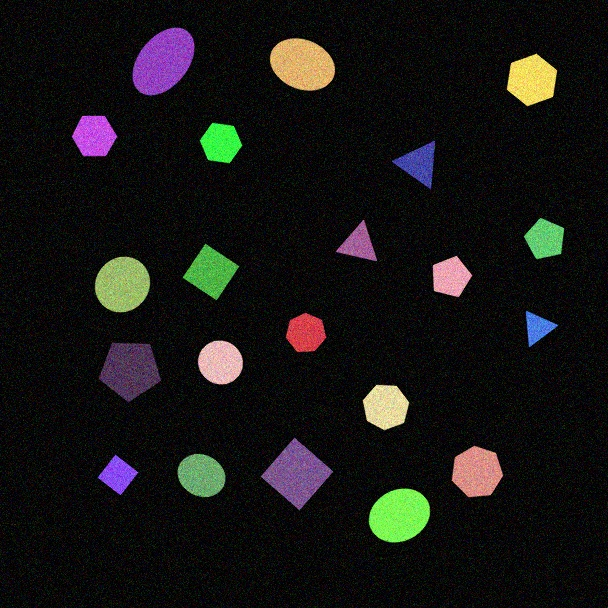Circulo: (94, 256, 151, 313), (177, 453, 226, 498), (197, 340, 244, 385)
Elipse: (132, 27, 195, 96), (269, 38, 336, 91), (368, 488, 431, 543)
Heptagono: (451, 445, 504, 498), (362, 384, 410, 431), (285, 312, 327, 353)
Hexagono: (506, 53, 558, 107), (71, 115, 118, 157), (199, 122, 243, 164)
Pentagono: (98, 342, 162, 403), (523, 217, 565, 260), (432, 255, 473, 298)
Quadrado: (260, 437, 334, 511), (182, 243, 240, 301), (97, 454, 139, 496)
Triangulo: (392, 140, 436, 190), (335, 220, 378, 262), (525, 310, 559, 348)
